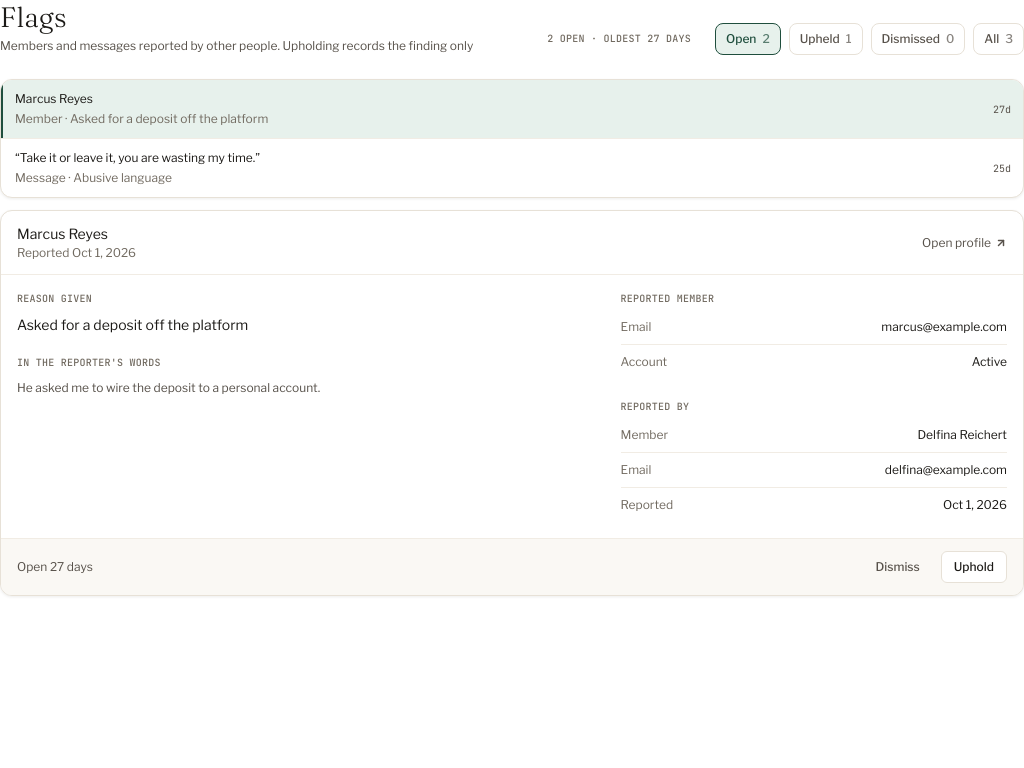
AdminFlagsConsole · deciding › upholds the report under review, once, then closes
Click the button "Uphold". click: (974, 567)
box: [941,551,1007,583]
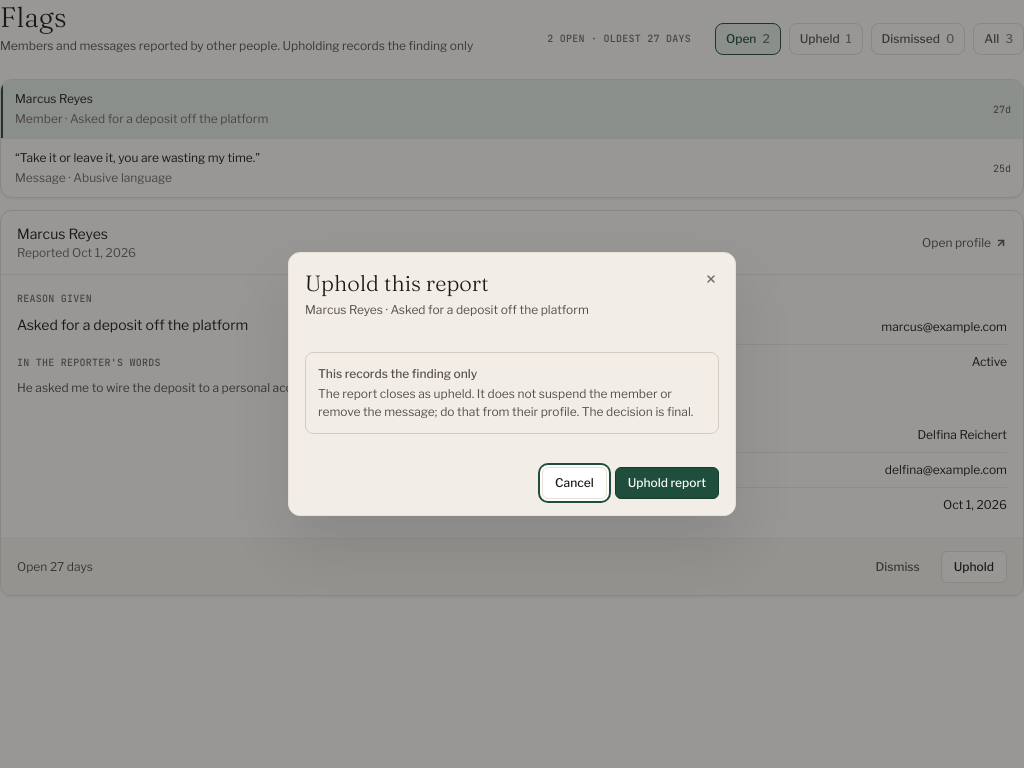
Click the button "Uphold report". click: (667, 483)
box: [615,467,719,499]
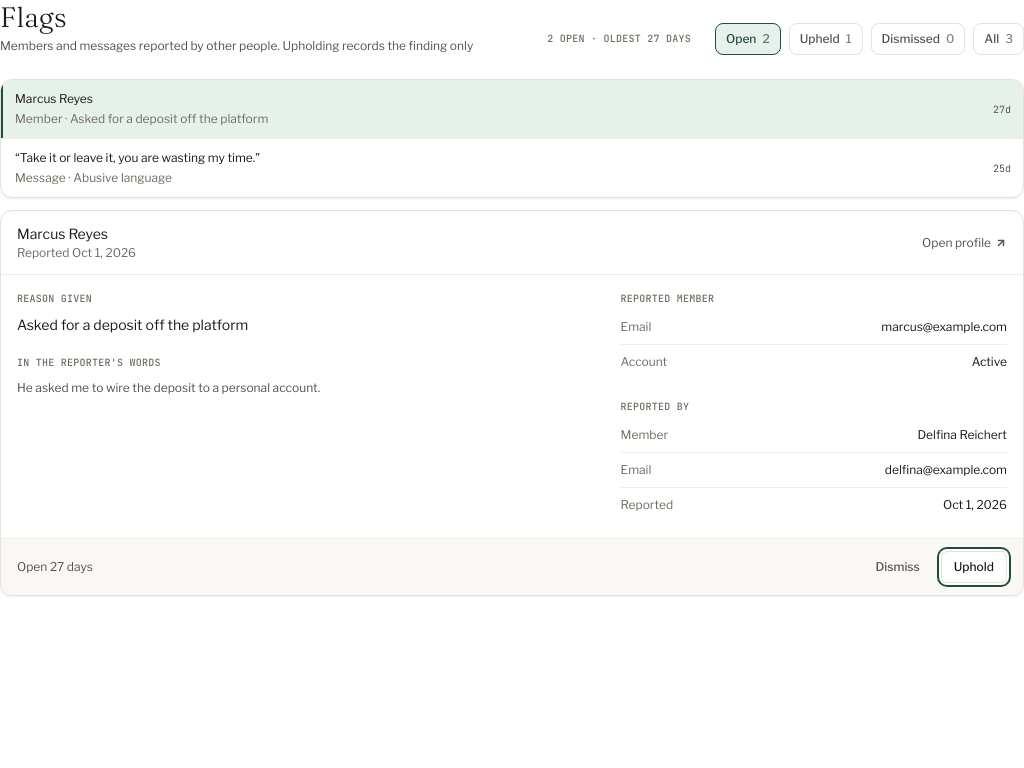
Result: the dialog is gone
